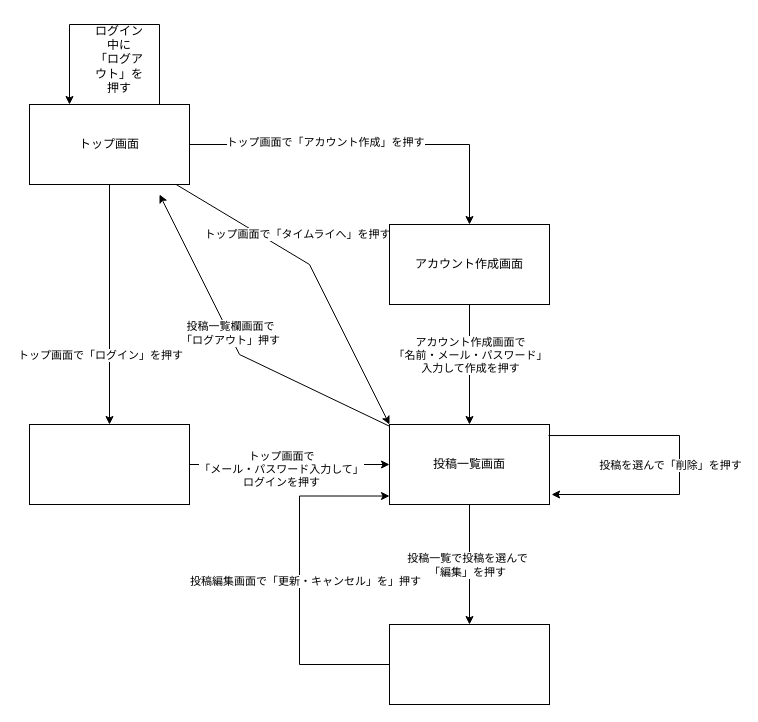
Some shapes in this 758 by 722 pixel diagram are drawn without their labels. Each missing label, with the centre of its shape:
ログイン画面: (109,464)
投稿編集画面: (469,664)
